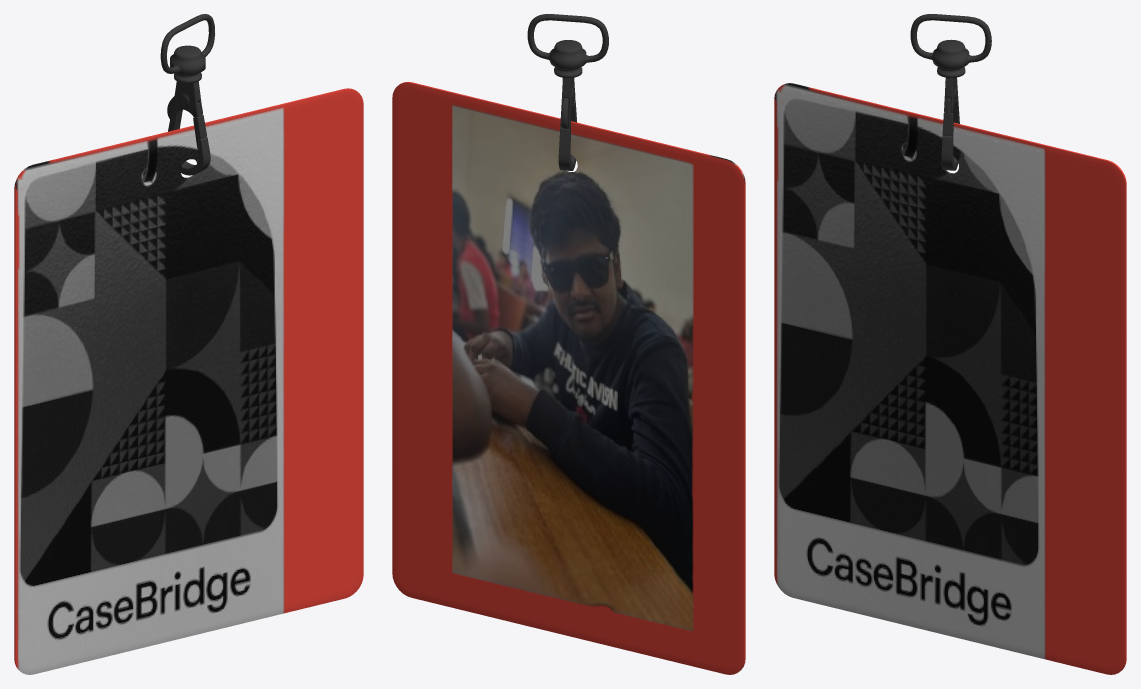
Rendered from card4.glb.
3 renders of one model, left to right at view 1: azimuth 30°, elevation 25°; view 2: azimuth 150°, elevation 25°; view 3: azimuth 330°, elevation 25°, orthographic.
Visible parts, largest first — view 1: card, clamp, clip; view 2: card, clip, clamp; view 3: card, clip, clamp.
Part boxes in pixels (x1,y1,x2,y2): card: (14,88,363,674); clamp: (167,81,210,175); clip: (160,14,214,83); card: (392,82,745,674); clip: (527,14,608,78); clamp: (558,77,577,170); card: (774,83,1126,674); clip: (910,14,991,77); clamp: (941,77,959,170).
Bounding box in the file's own units: 0.7164 × 1.21 × 0.0903.
Materials: 2 (1 with a texture image).
